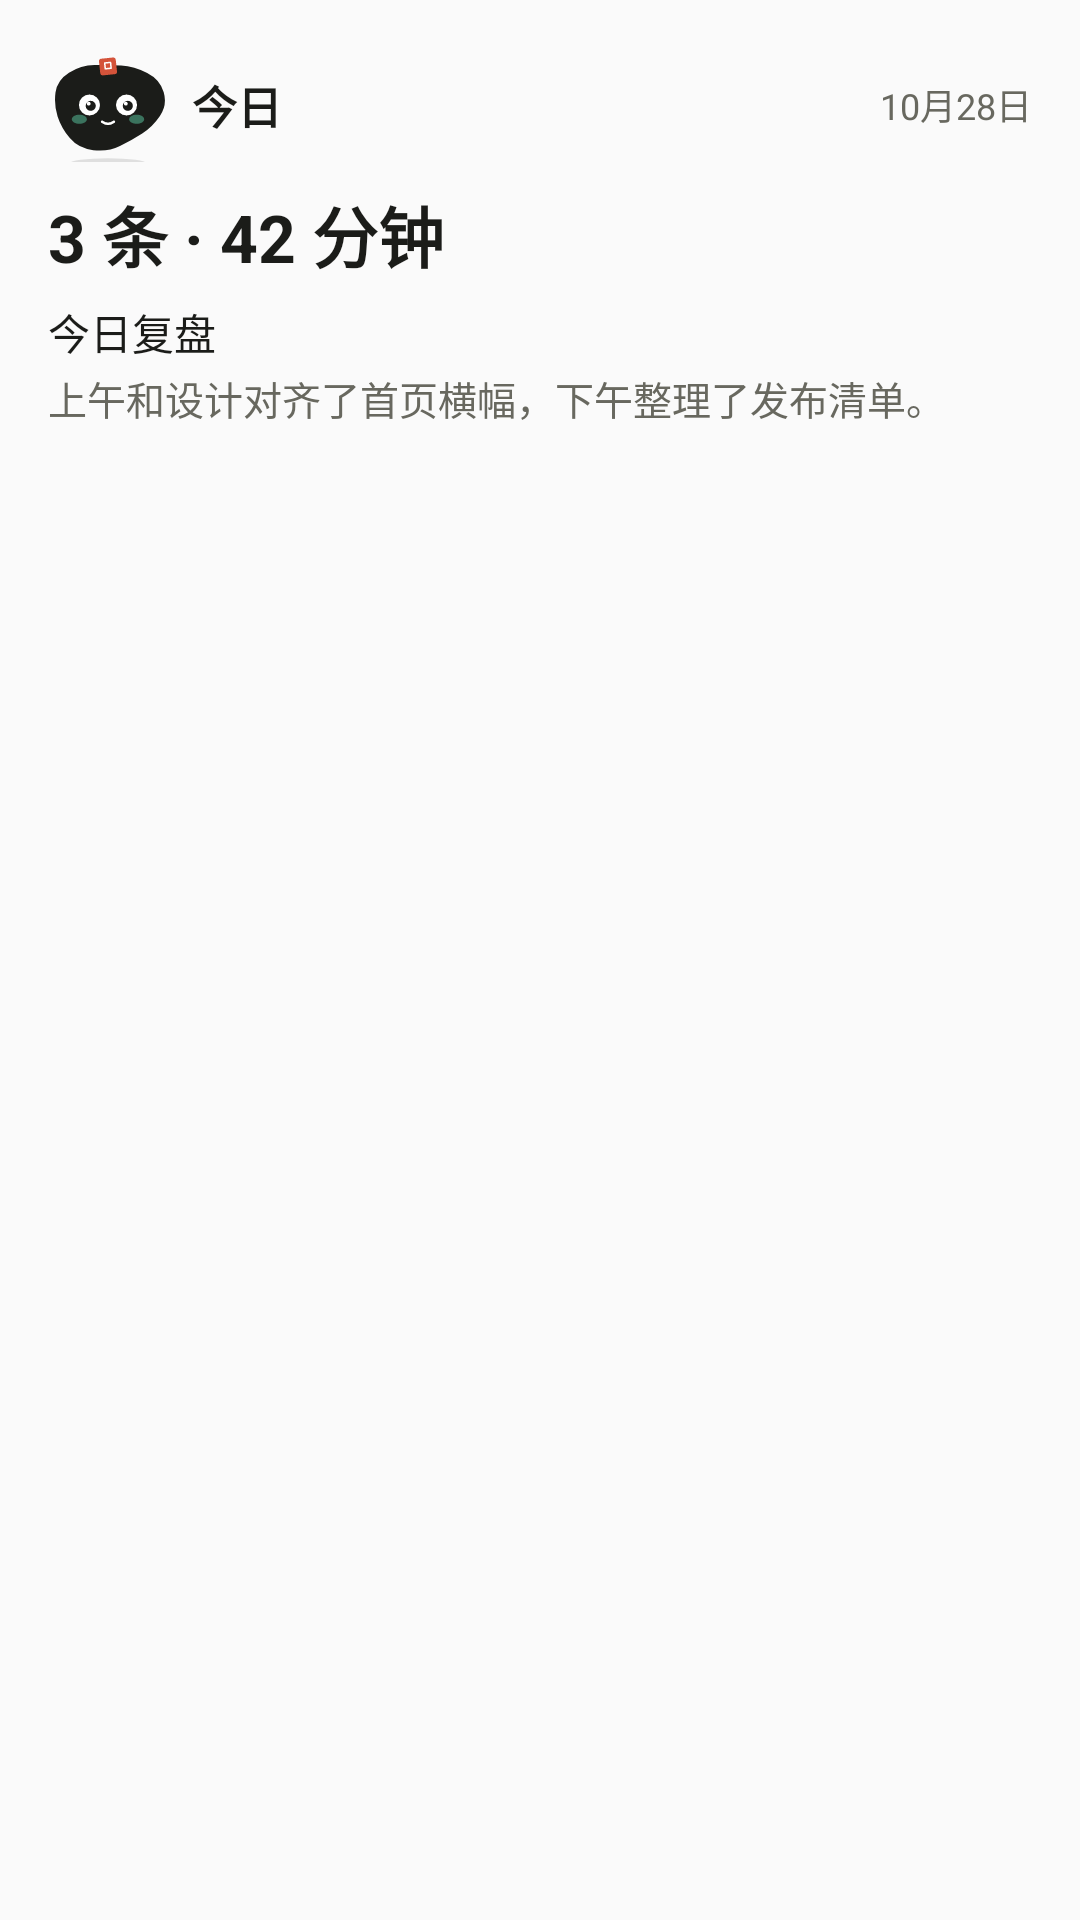

Locate icon controls on the screen. Image size 1080*1920, boxes as (x1, y1, x2, y2).
spirit idle: (55, 57, 165, 162)
